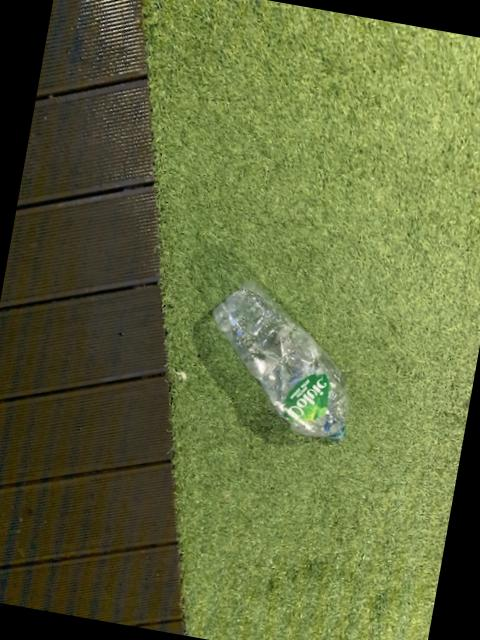plastic: (212, 283, 346, 441)
